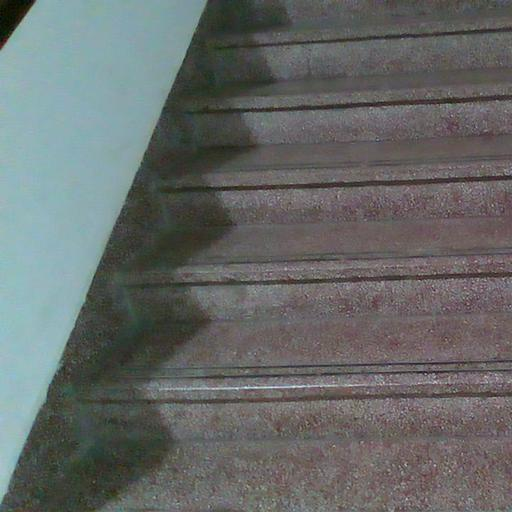Stairs: (2, 0, 512, 512)
